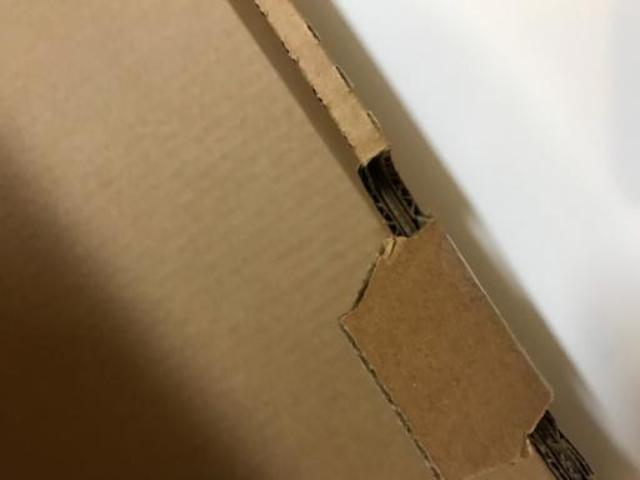cardboard paper: (0, 0, 606, 480)
